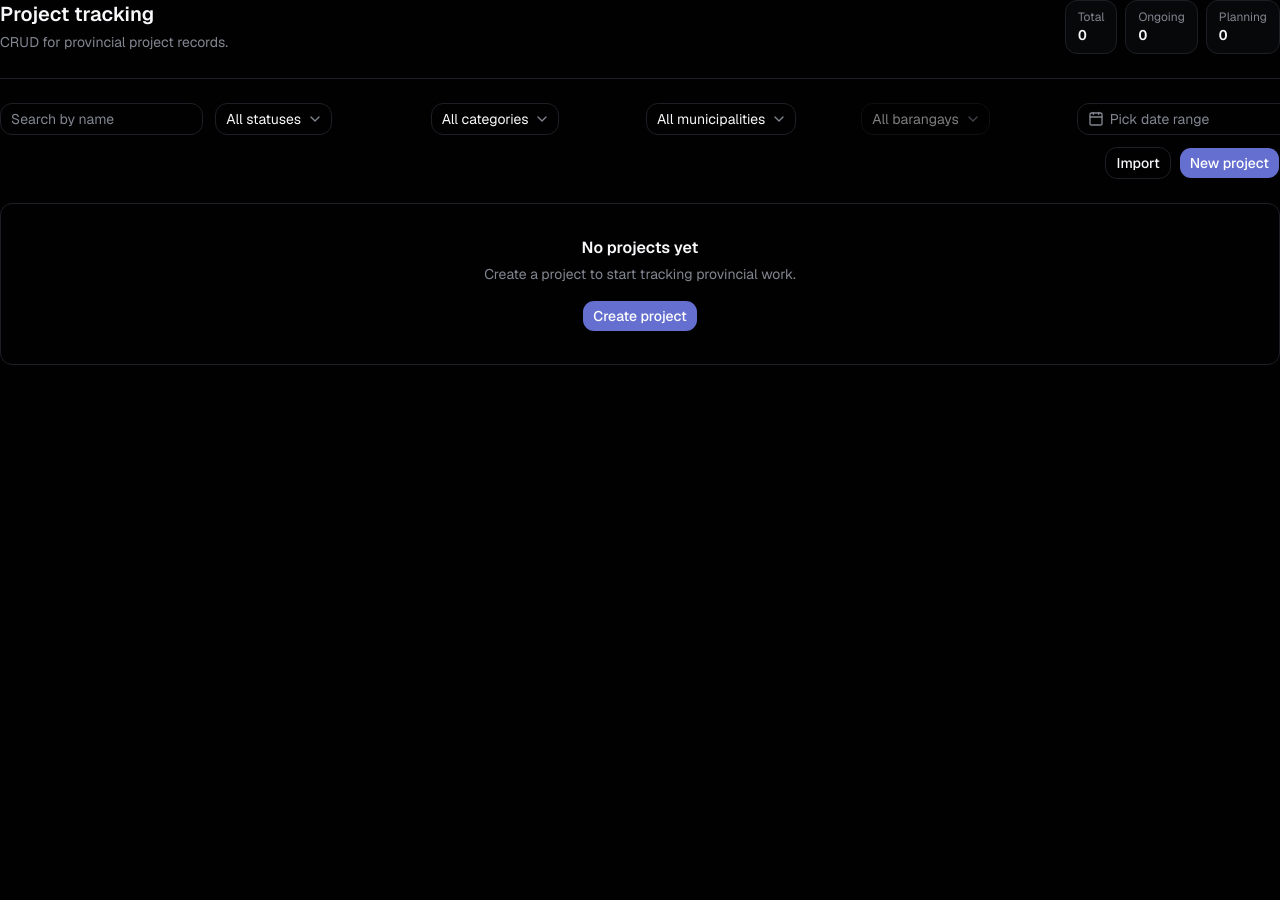
Test: ProjectsModule (J4) › opens the create project modal with save affordance
This screenshot has width=1280, height=900.
What coordinates should you click on to do the following:
click the button with test id "create-project"
I would click on:
 (1229, 163)
Its box is x1=1179 y1=147 x2=1279 y2=179.
(page scrolled)
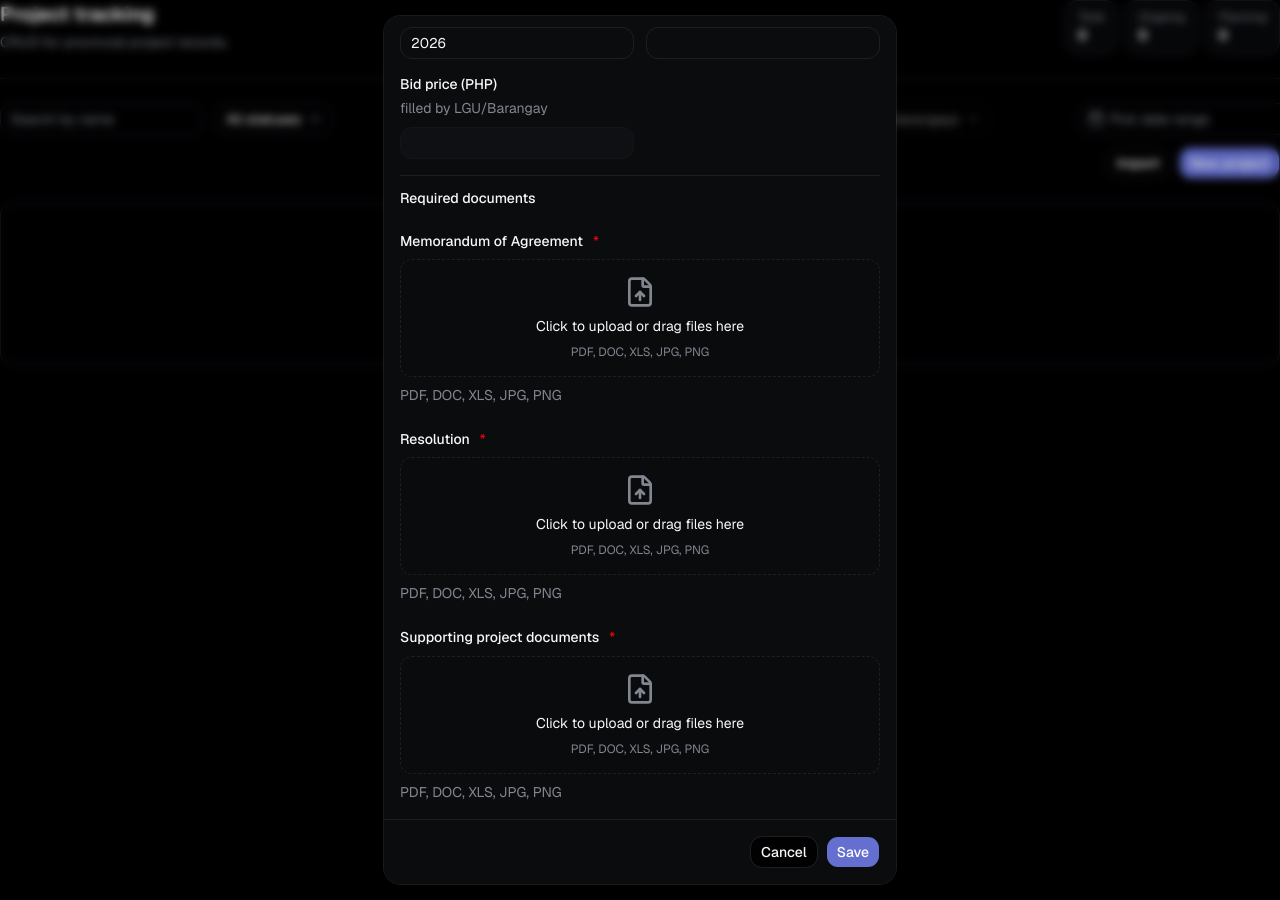
expect the dialog is shown: met, box x1=384 y1=16 x2=896 y2=884
expect the button "Save" is shown: met, box x1=826 y1=836 x2=880 y2=868
